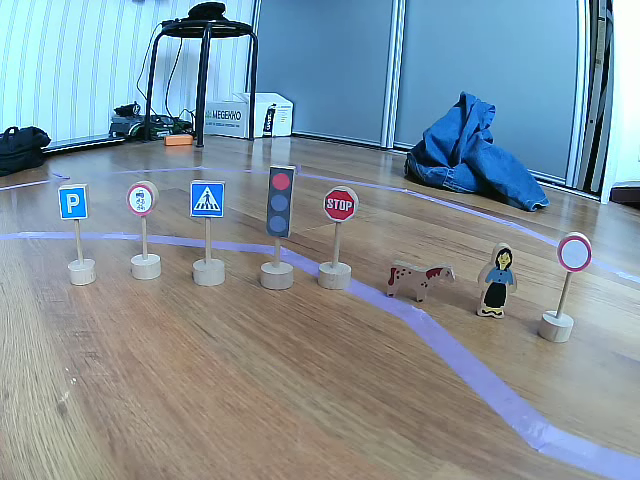fietspad: (128, 183, 153, 215)
mens: (477, 242, 517, 317)
paard: (389, 260, 460, 303)
parkeerbord: (60, 184, 88, 219)
roodlicht: (266, 166, 295, 237)
stopbord: (323, 186, 357, 221)
wegdicht: (557, 232, 593, 273)
zebrapad: (190, 181, 224, 217)
